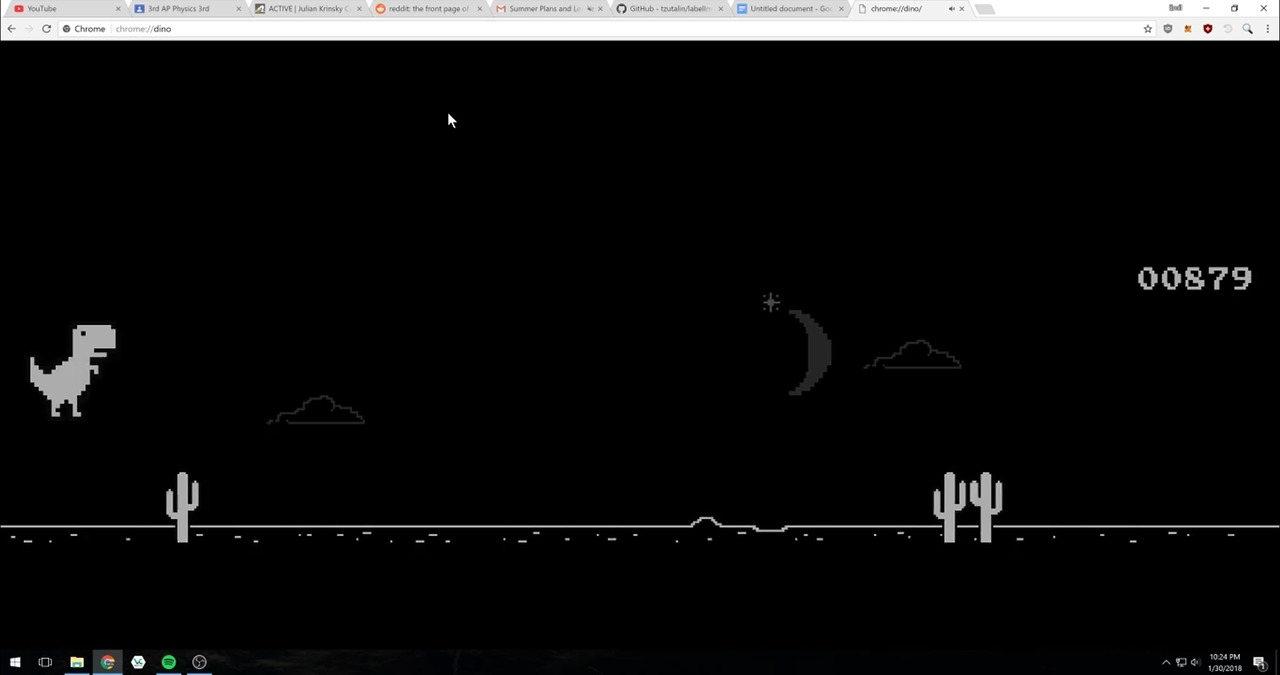cactus: (932, 468, 1005, 547), (163, 470, 201, 546)
dinosaur: (24, 320, 118, 421)
